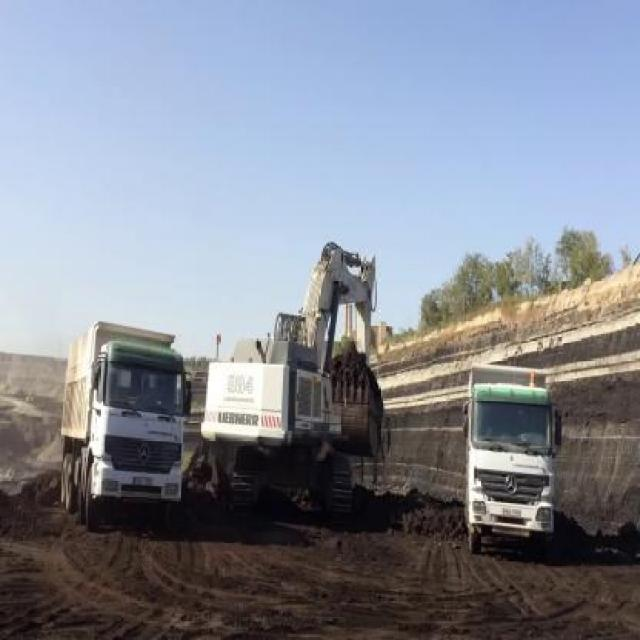Dump Truck: (58, 318, 194, 532), (459, 364, 561, 559)
Excavator: (200, 237, 386, 531)
